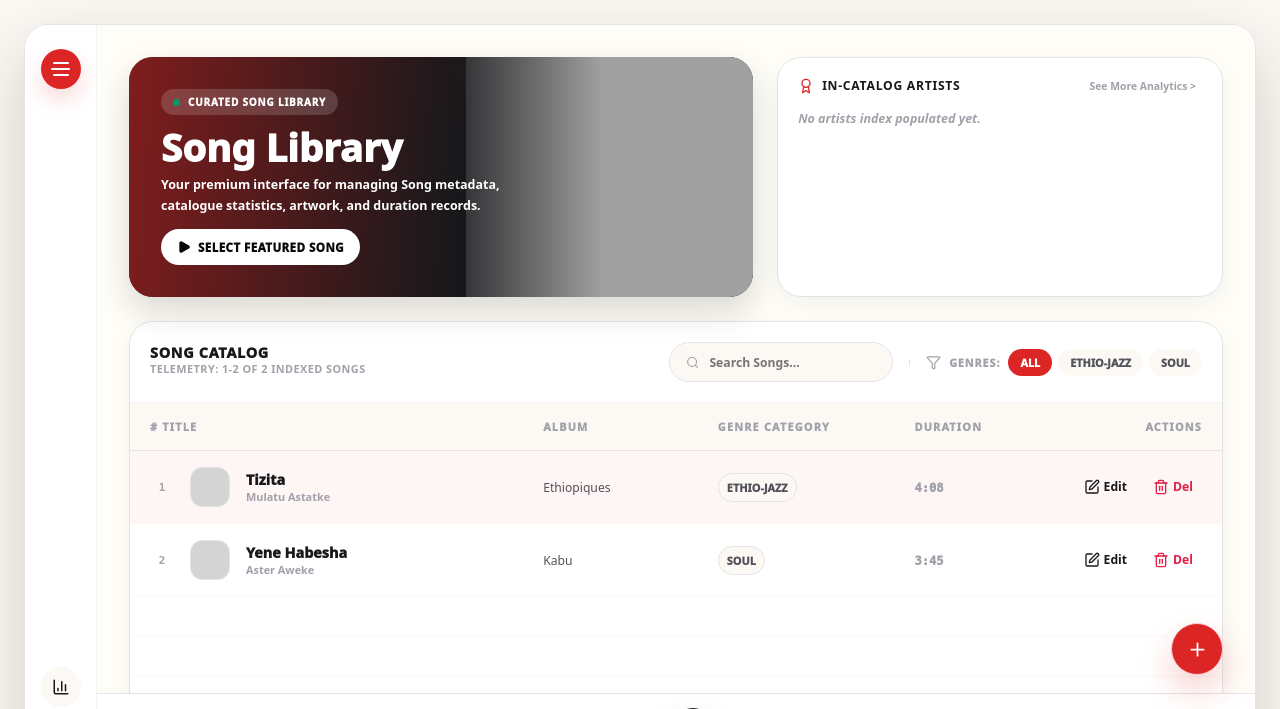
Scenario: App › debounces search requests while keeping the search input focused
Type "t" into the search field at x=792, y=362, box [707,352,876,372]
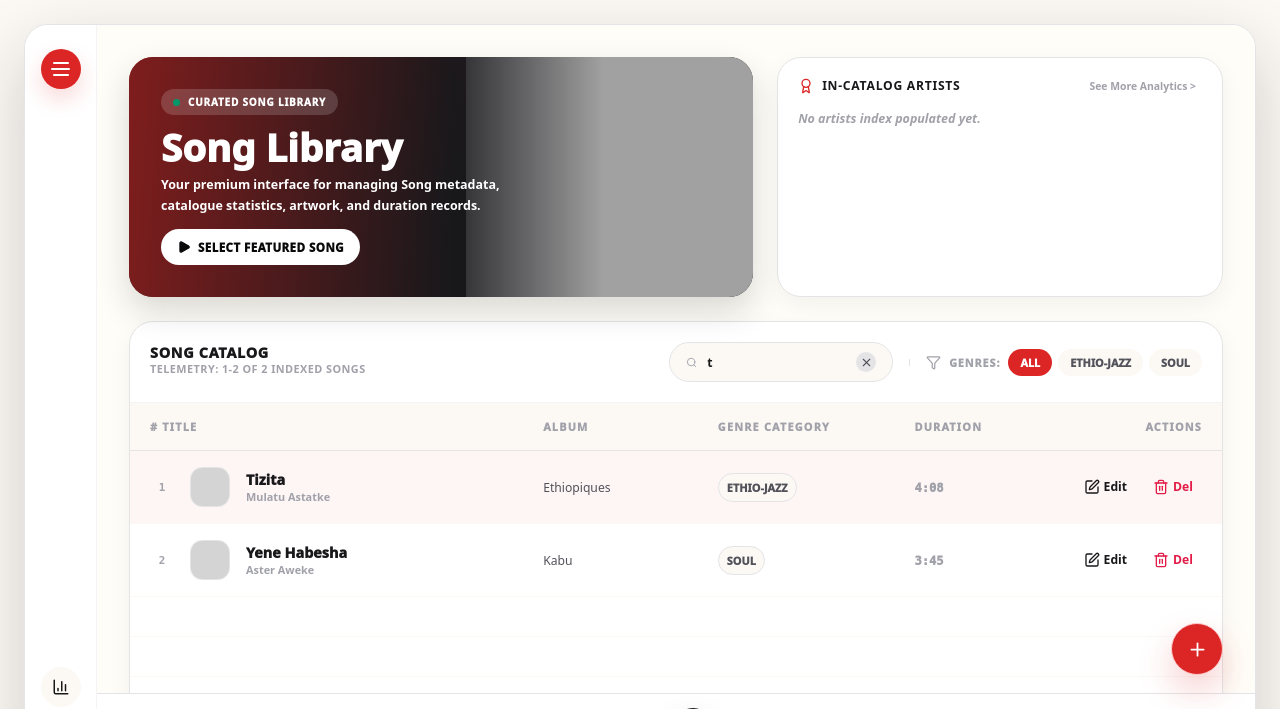
Replace the text in the search field with "ti" at x=777, y=362, box [705,352,848,372]
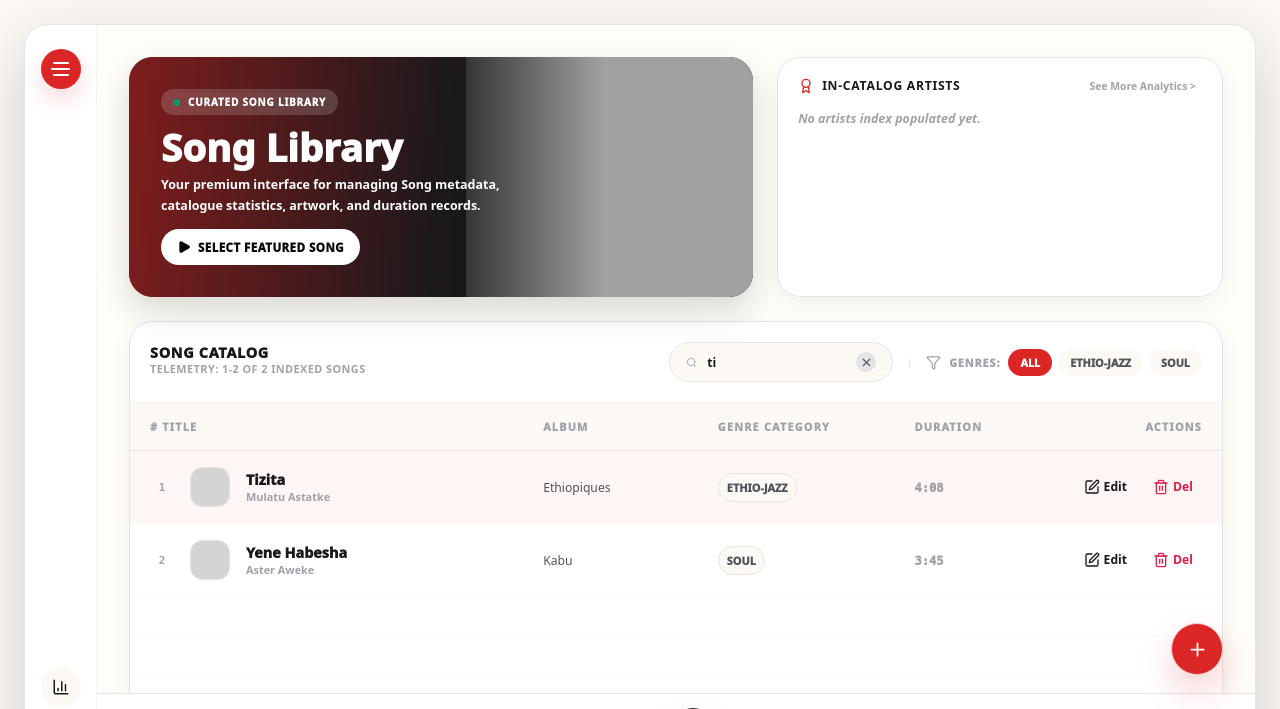
Replace the text in the search field with "tiz" at x=777, y=362, box [705,352,848,372]
Wait 350 ms
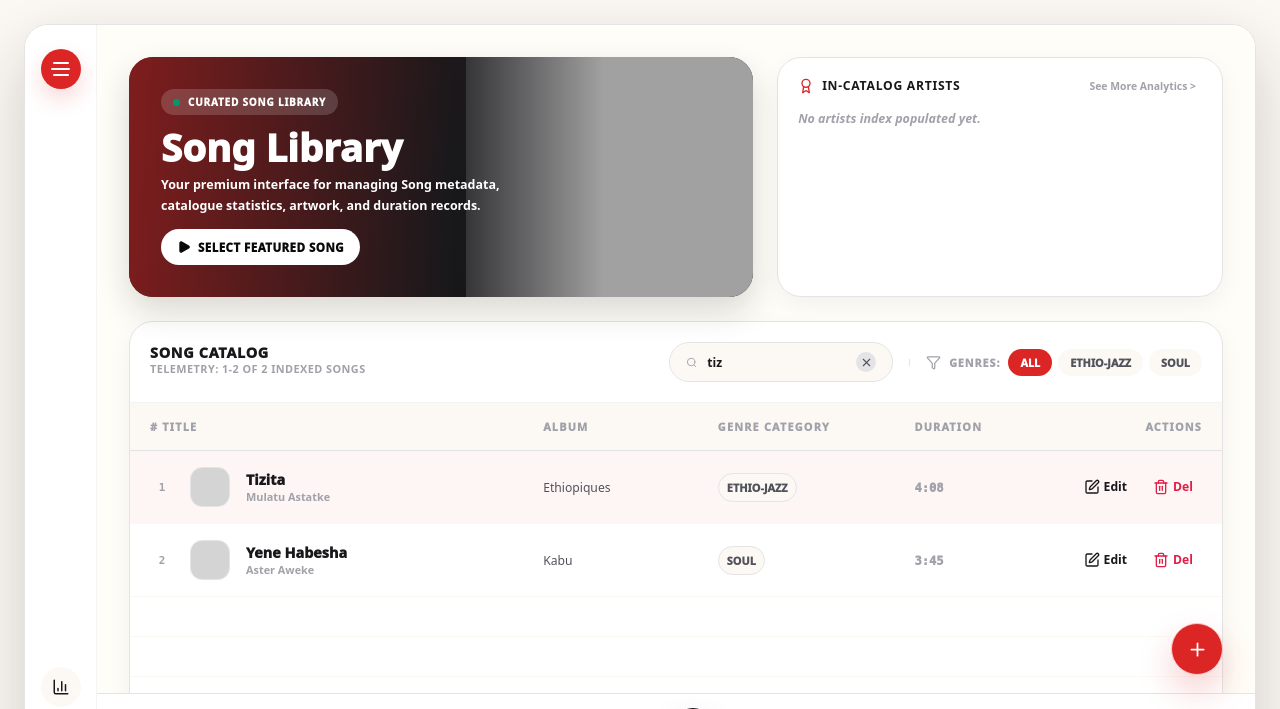
Click the button named "Clear search" at x=866, y=362, box [856,352,876,372]
Wait 350 ms
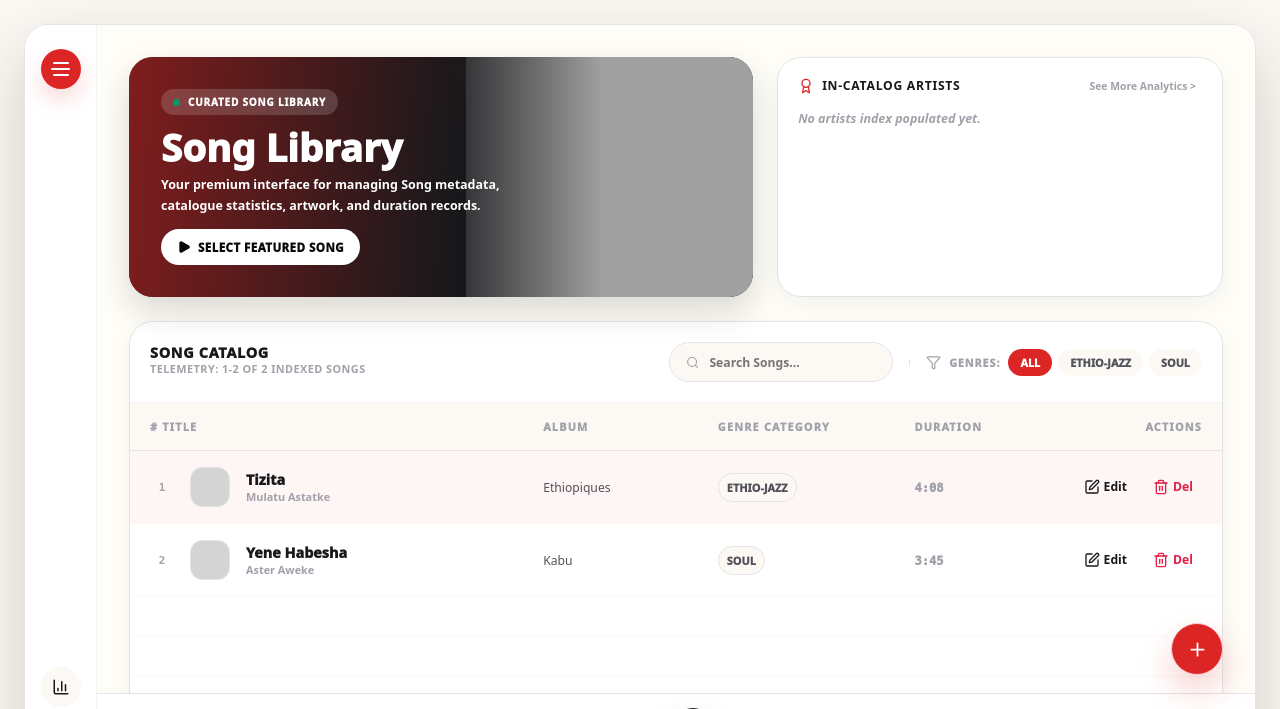
Expected: the search field is empty, [707,352,876,372]
